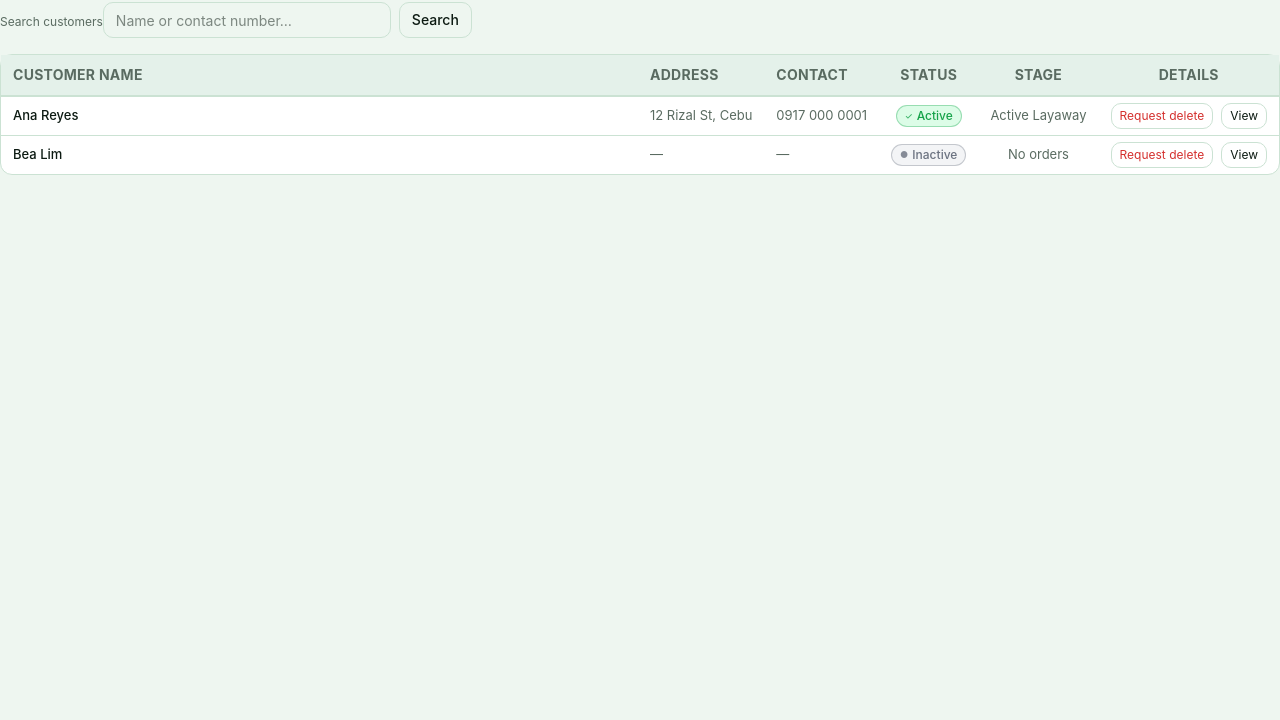
Test: CustomersView — detail modal (no right-side panel) › opens a centered modal with the five fields when View is clicked
Click the button with test id "customer-view-c1" at (1244, 116), box [1221,102,1267,128]
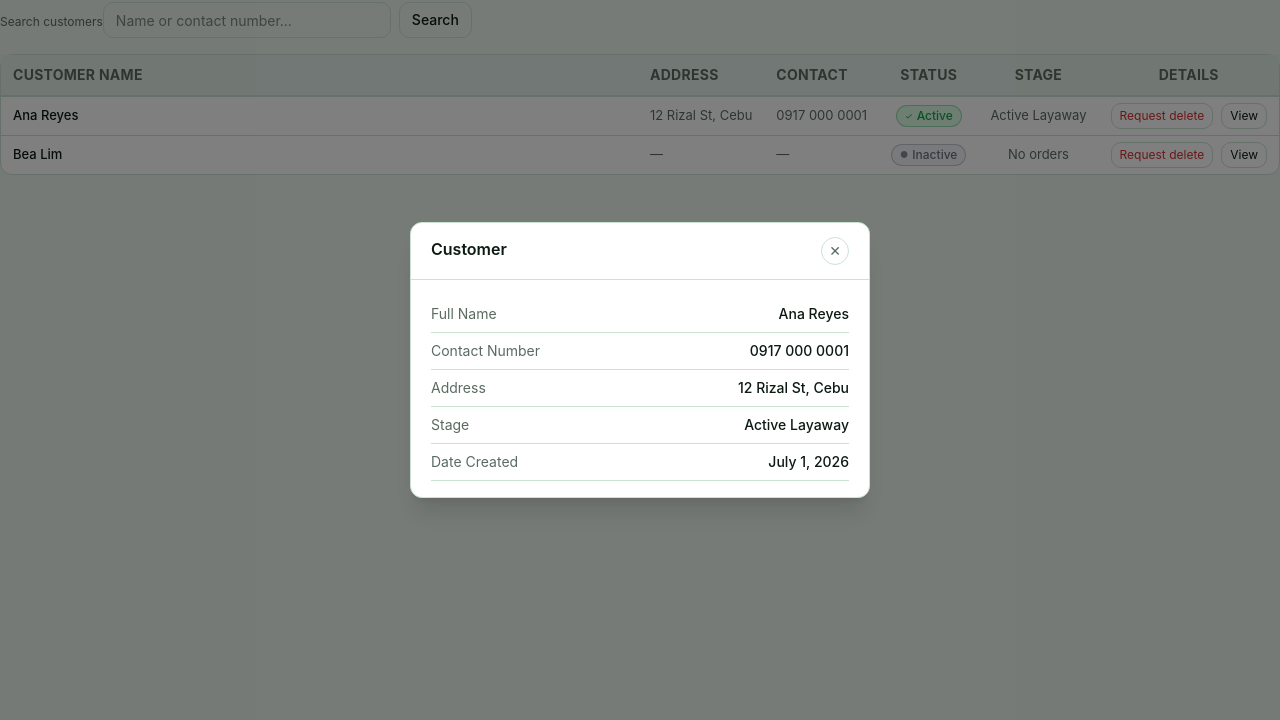
Expected: the element with test id "customer-detail-modal" is shown, [431,296,849,481]
Expected: the text "Full Name" is shown, [431,304,497,324]
Expected: the text "Contact Number" is shown, [431,341,540,361]
